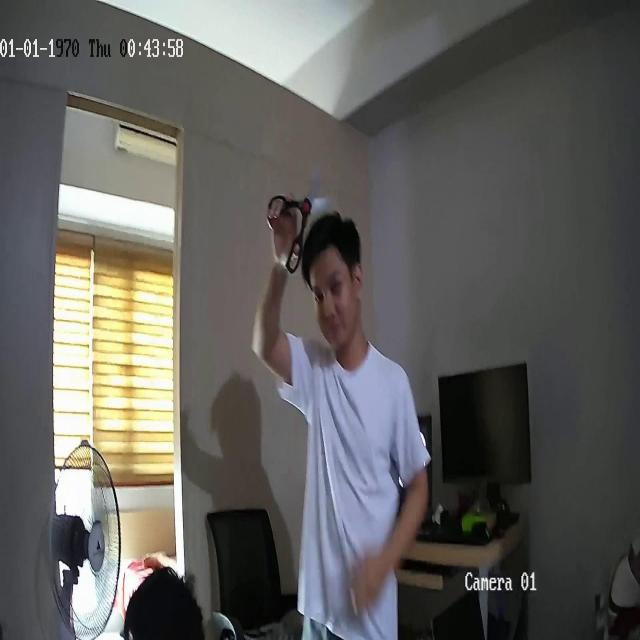scissor: (267, 163, 331, 273)
